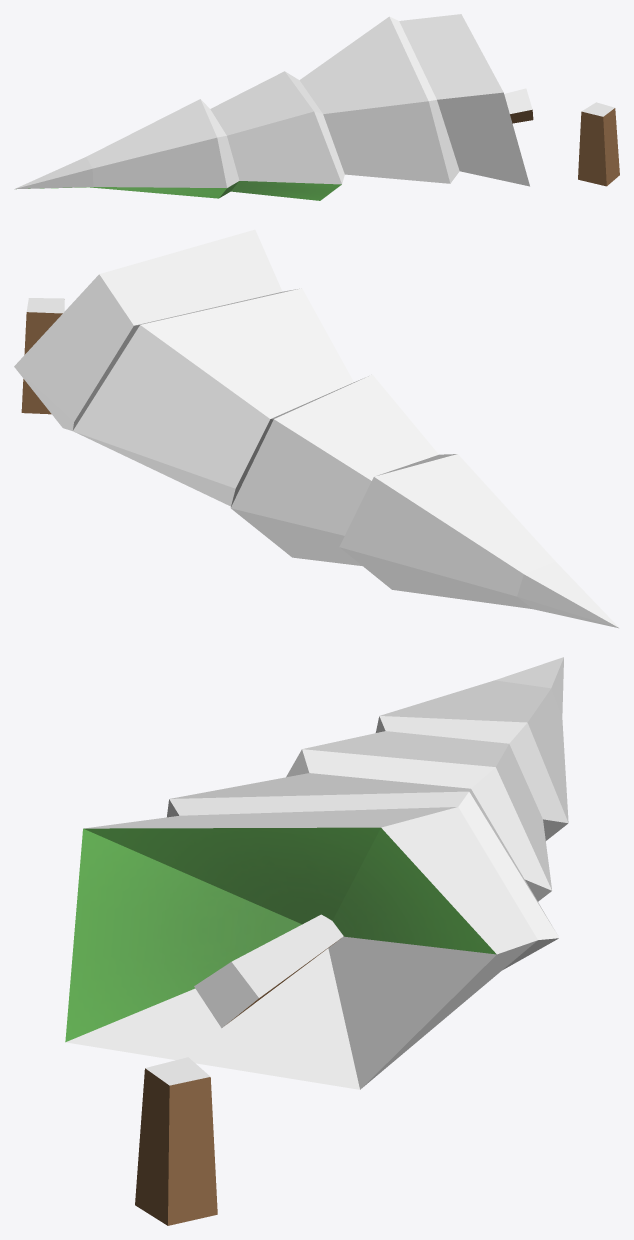
Rendered from Fir_Tree_crk_m_Snow_BT_04.fbx.
The picture shows the model from 3 angles, top to bottom: view 1: azimuth 30°, elevation 25°; view 2: azimuth 150°, elevation 25°; view 3: azimuth 270°, elevation 25°; orthographic projection. The views are drawn at different scales.
Parts seen in each view (by area): view 1: Fir_Tree_crk_m_Snow_BT_04; view 2: Fir_Tree_crk_m_Snow_BT_04; view 3: Fir_Tree_crk_m_Snow_BT_04.
Boxes of the visible parts, <box> form: Fir_Tree_crk_m_Snow_BT_04: <box>14,14,619,200</box>; Fir_Tree_crk_m_Snow_BT_04: <box>14,229,619,628</box>; Fir_Tree_crk_m_Snow_BT_04: <box>65,657,568,1225</box>.
Size of the model in its own units: 332 by 98.31 by 143.
